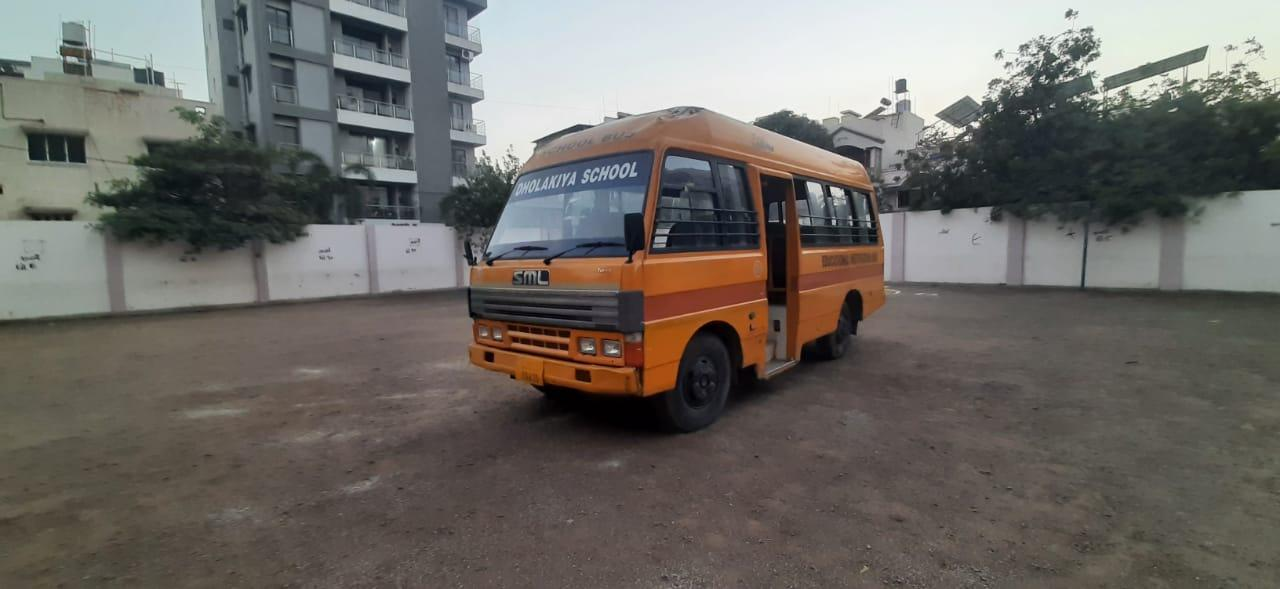Bus: (458, 99, 925, 441)
